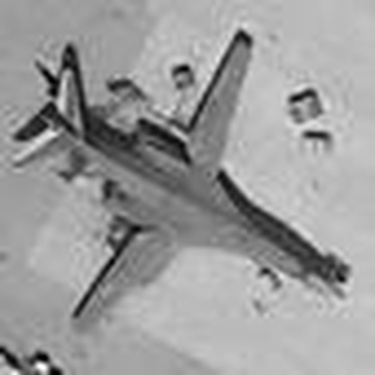airplane: (1, 25, 349, 342)
